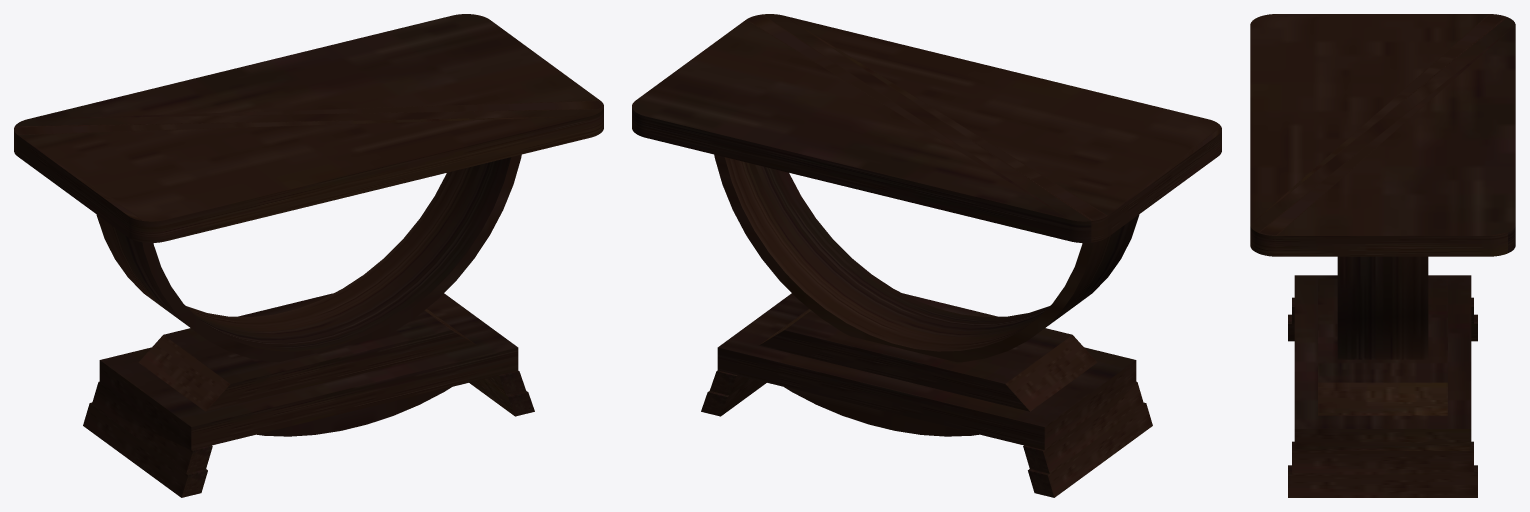
Rendered from side table_1_processed.glb.
The picture shows the model from 3 angles, left to right: view 1: azimuth 30°, elevation 25°; view 2: azimuth 150°, elevation 25°; view 3: azimuth 270°, elevation 25°; orthographic projection. The views are drawn at different scales.
Parts seen in each view (by area): view 1: pCube10; view 2: pCube10; view 3: pCube10.
Boxes of the visible parts, x1,y1,x2,y2 form: pCube10: (14, 14, 603, 497); pCube10: (632, 14, 1221, 497); pCube10: (1250, 14, 1515, 497).
Bounding box in the file's own units: 5065 × 3084 × 2558.
Materials: 1 (1 with a texture image).
